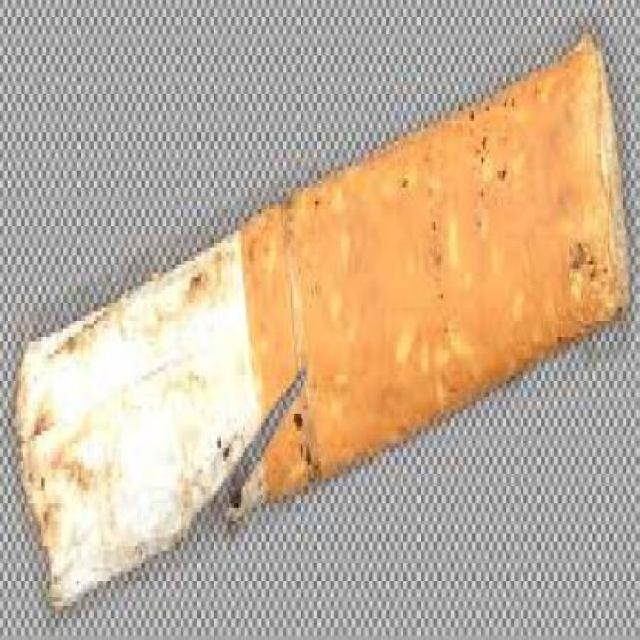cigarette: (17, 21, 614, 602)
